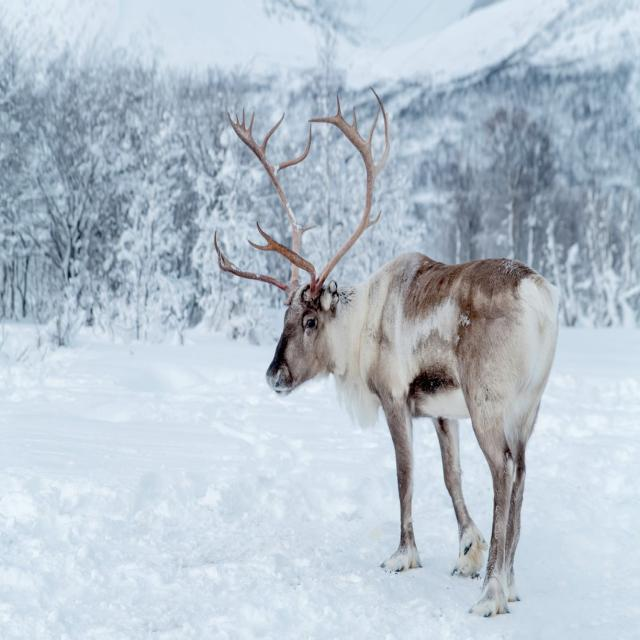reindeer: (216, 93, 558, 616)
